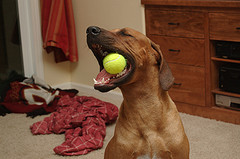tennis ball: (103, 52, 128, 75)
